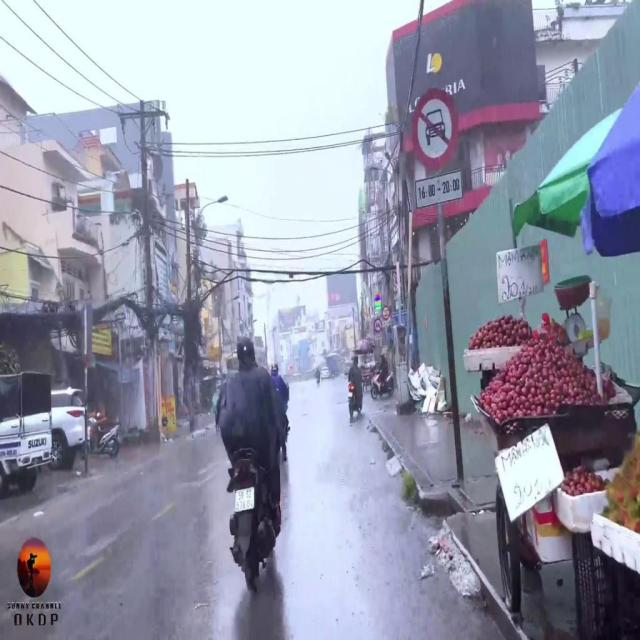cam_o_to: (412, 90, 457, 170), (374, 318, 382, 332)
cam_o_to_tai_va_xe_khach: (382, 306, 390, 319)
khac: (415, 170, 463, 209)
